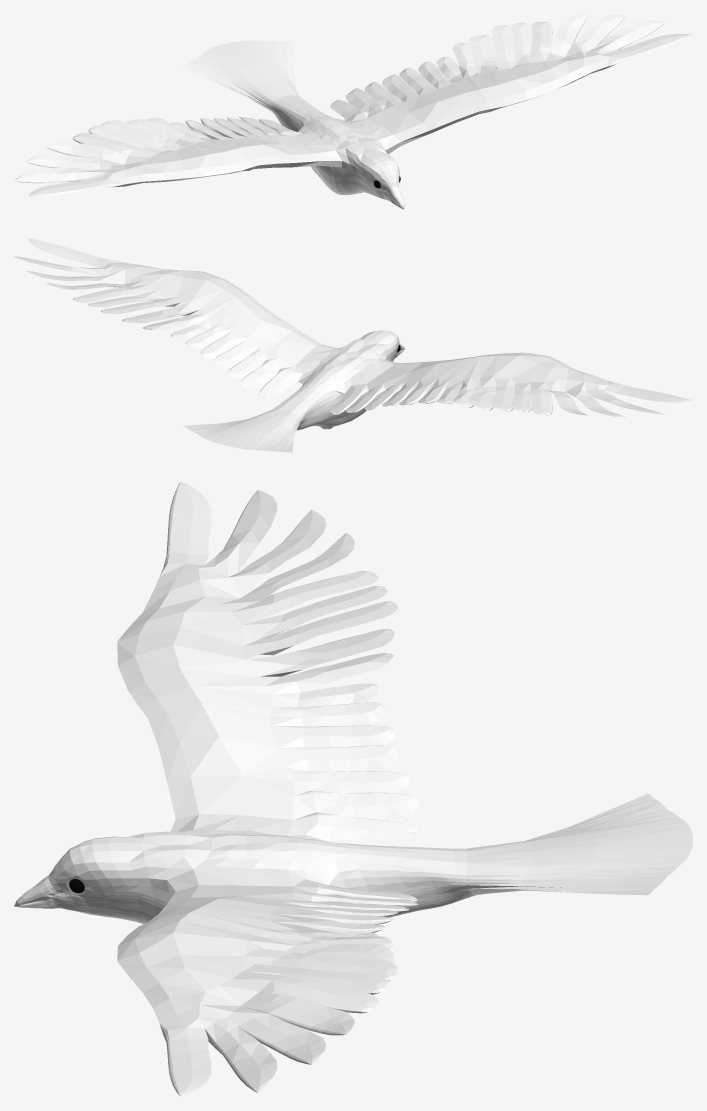
Rendered from dove.obj.
3 views of the same model, one above another, from view 1: azimuth 30°, elevation 25°; view 2: azimuth 150°, elevation 25°; view 3: azimuth 270°, elevation 25° (orthographic). The views are drawn at different scales.
Bounding box in the file's own units: 0.414 × 0.0533 × 0.193.
Materials: 2 (1 with a texture image).
